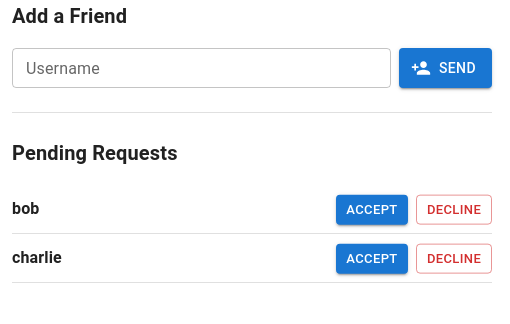
Test: FriendRequests › shows validation error when username is too short
Type "ab" into the field labelled "Username" at (201, 68), box [12,48,391,88]
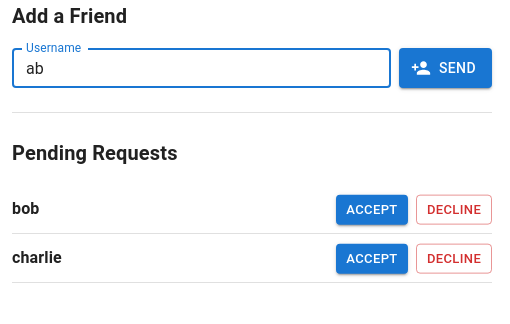
Click the button "Send" at (445, 68), box [399,48,492,88]
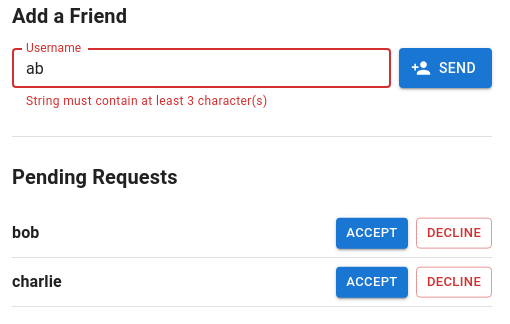
Now the text "String must contain at least 3 character(s)" is shown, box [26,94,268,108]
